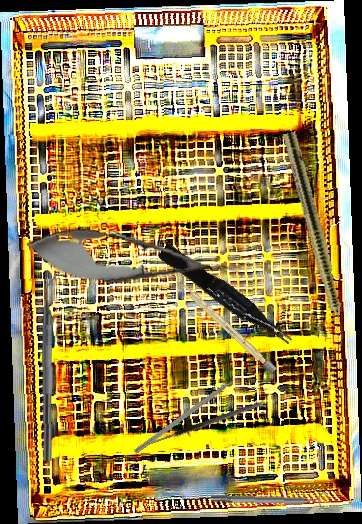Chopper: (133, 370, 251, 460), (39, 273, 66, 461)
Fixation Ring: (210, 487, 329, 512)
Handpiece: (279, 130, 354, 350)
Hook Surgical: (137, 399, 266, 457)
Micro Scissor: (24, 219, 244, 298)
Scalpel Handle: (176, 279, 278, 375)
Tissue Forceps: (157, 237, 295, 356)
